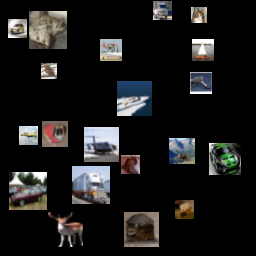airplane: (84, 127, 119, 162), (100, 39, 122, 61), (19, 126, 38, 145)
automobile: (9, 172, 47, 210), (209, 143, 241, 175), (8, 19, 27, 38)
bird: (41, 63, 57, 79)
cat: (124, 212, 159, 247), (175, 200, 194, 219), (121, 155, 140, 174), (191, 7, 207, 23)
deer: (48, 212, 83, 247), (169, 138, 195, 164)
dog: (42, 121, 68, 147)
frog: (29, 11, 67, 49), (190, 72, 212, 94)
ship: (117, 81, 152, 116), (192, 39, 214, 61)
